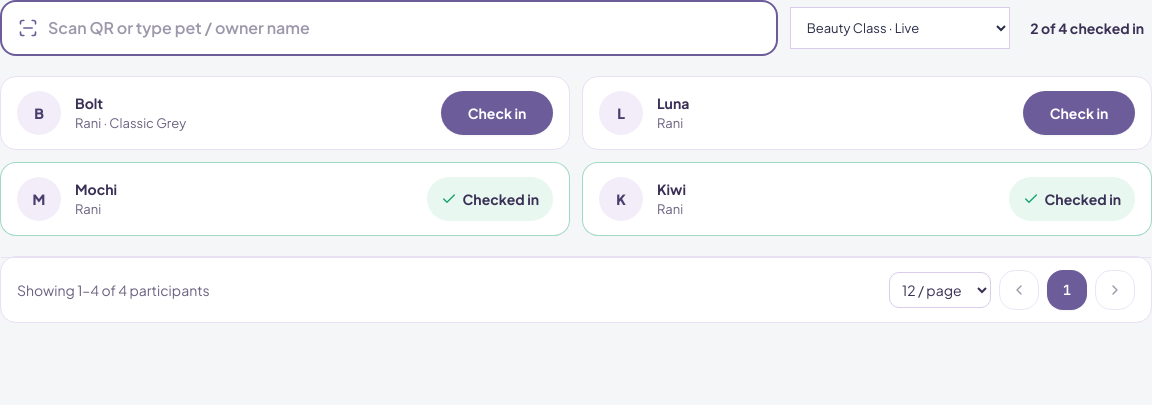
Test: EventParticipants › checks in straight away when a scanned code matches one participant
This screenshot has width=1152, height=405.
Expected: the text "Bolt" is shown, [75, 94, 103, 112]
Type "PTC-1-002" into the search field named "Scan QR or search participant" at (404, 28), box [48, 16, 760, 40]
Then press Enter
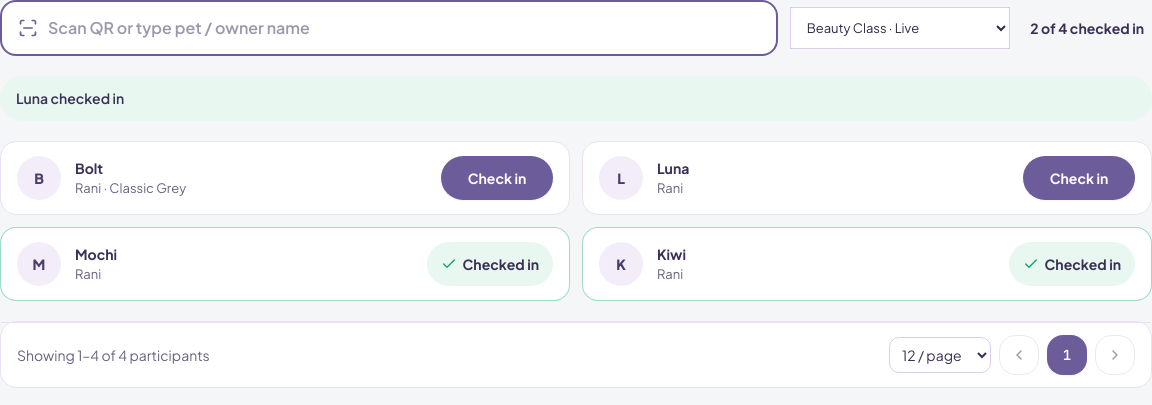
Result: the message reads "Luna checked in" at [16, 89, 124, 107]
